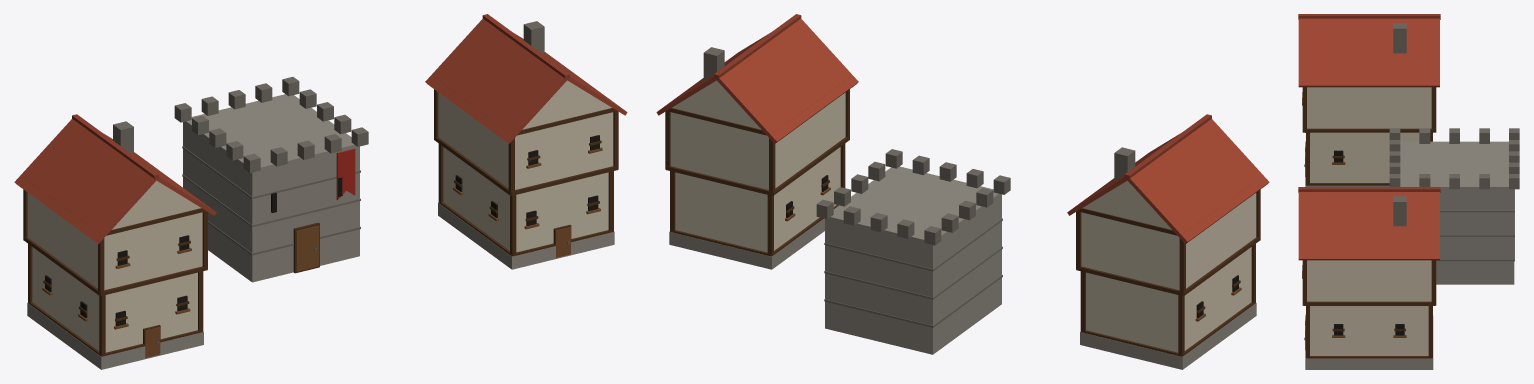
The model's file is human_court_broken.glb.
3 views of the same model, side by side, from view 1: azimuth 30°, elevation 25°; view 2: azimuth 150°, elevation 25°; view 3: azimuth 270°, elevation 25° (orthographic). The views are drawn at different scales.
Parts seen in each view (by area): view 1: human_court_piece2, human_court_piece4, human_court_piece1, human_court_piece10, human_court_piece6, human_court_piece9, human_court_piece7, human_court_piece8, human_court_piece13, human_court_piece12, human_court_piece3, human_court_piece5 (+1 smaller); view 2: human_court_piece4, human_court_piece3, human_court_piece13, human_court_piece6, human_court_piece7, human_court_piece2, human_court_piece12, human_court_piece1, human_court_piece8, human_court_piece11, human_court_piece0, human_court_piece9 (+2 smaller); view 3: human_court_piece6, human_court_piece4, human_court_piece7, human_court_piece2, human_court_piece1, human_court_piece5, human_court_piece3, human_court_piece10, human_court_piece9, human_court_piece12, human_court_piece13, human_court_piece11 (+1 smaller).
Boxes of the visible parts, bbox=[...] form: human_court_piece2: bbox=[332, 89, 627, 269]; human_court_piece4: bbox=[18, 114, 226, 285]; human_court_piece1: bbox=[167, 138, 336, 353]; human_court_piece10: bbox=[78, 194, 203, 369]; human_court_piece6: bbox=[467, 14, 622, 149]; human_court_piece9: bbox=[238, 121, 360, 261]; human_court_piece7: bbox=[246, 69, 442, 183]; human_court_piece8: bbox=[324, 25, 476, 174]; human_court_piece13: bbox=[14, 173, 76, 351]; human_court_piece12: bbox=[174, 90, 241, 213]; human_court_piece3: bbox=[432, 58, 473, 241]; human_court_piece5: bbox=[59, 128, 242, 355]; human_court_piece4: bbox=[958, 114, 1269, 295]; human_court_piece3: bbox=[665, 118, 846, 329]; human_court_piece13: bbox=[1076, 232, 1231, 369]; human_court_piece6: bbox=[656, 14, 832, 149]; human_court_piece7: bbox=[766, 125, 919, 309]; human_court_piece2: bbox=[738, 29, 927, 243]; human_court_piece12: bbox=[870, 213, 968, 309]; human_court_piece1: bbox=[940, 145, 1160, 332]; human_court_piece8: bbox=[724, 85, 927, 197]; human_court_piece11: bbox=[850, 211, 974, 348]; human_court_piece0: bbox=[897, 268, 956, 354]; human_court_piece9: bbox=[832, 158, 944, 343]; human_court_piece6: bbox=[1298, 187, 1440, 358]; human_court_piece4: bbox=[1298, 14, 1465, 143]; human_court_piece7: bbox=[1400, 160, 1519, 272]; human_court_piece2: bbox=[1298, 163, 1393, 369]; human_court_piece1: bbox=[1298, 68, 1455, 186]; human_court_piece5: bbox=[1344, 96, 1471, 186]; human_court_piece3: bbox=[1389, 230, 1514, 369]; human_court_piece10: bbox=[1298, 64, 1361, 186]; human_court_piece9: bbox=[1390, 150, 1514, 284]; human_court_piece12: bbox=[1465, 128, 1519, 162]; human_court_piece13: bbox=[1378, 87, 1436, 186]; human_court_piece11: bbox=[1468, 149, 1519, 214].
Bounding box in the file's own units: 6.21 × 2.07 × 2.6.
